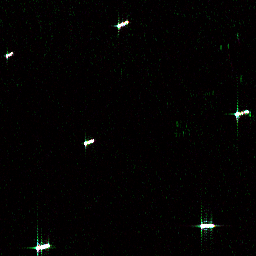ship: (33, 241, 51, 252), (233, 107, 250, 118), (115, 18, 130, 29), (3, 48, 16, 60), (198, 221, 215, 230), (82, 137, 96, 146)
